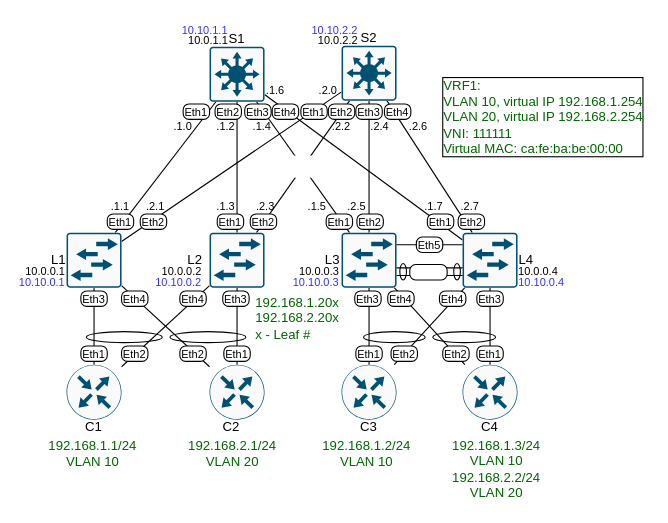
Image size: 668x523. Some labels were removed from this diagram. The centre of each missing label's shape, as x and y in pixels:
"172.16.x.x/31" goes at [304,166].
"Eth6,7" goes at [428,271].
